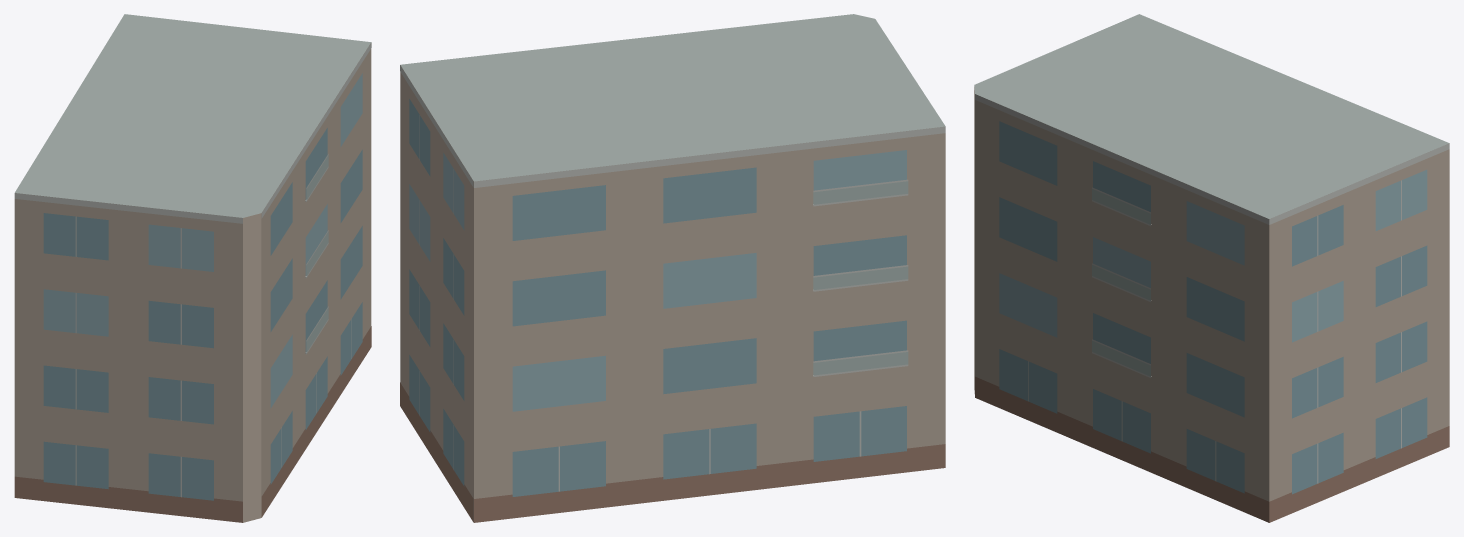
Rendered from survey-upis-33027614.glb.
3 renders of one model, left to right at view 1: azimuth 30°, elevation 25°; view 2: azimuth 150°, elevation 25°; view 3: azimuth 270°, elevation 25°, orthographic. The views are drawn at different scales.
Visible parts, largest first — view 1: survey-upis-33027614.tmp; view 2: survey-upis-33027614.tmp; view 3: survey-upis-33027614.tmp.
Boxes of the visible parts, x1,y1,x2,y2 form: survey-upis-33027614.tmp: (14, 14, 371, 522); survey-upis-33027614.tmp: (400, 14, 945, 522); survey-upis-33027614.tmp: (974, 14, 1449, 522).
Size of the model in its own units: 18.26 by 12.6 by 17.88.
